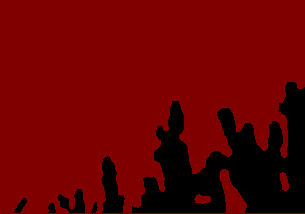Sky: (1, 1, 304, 213)
